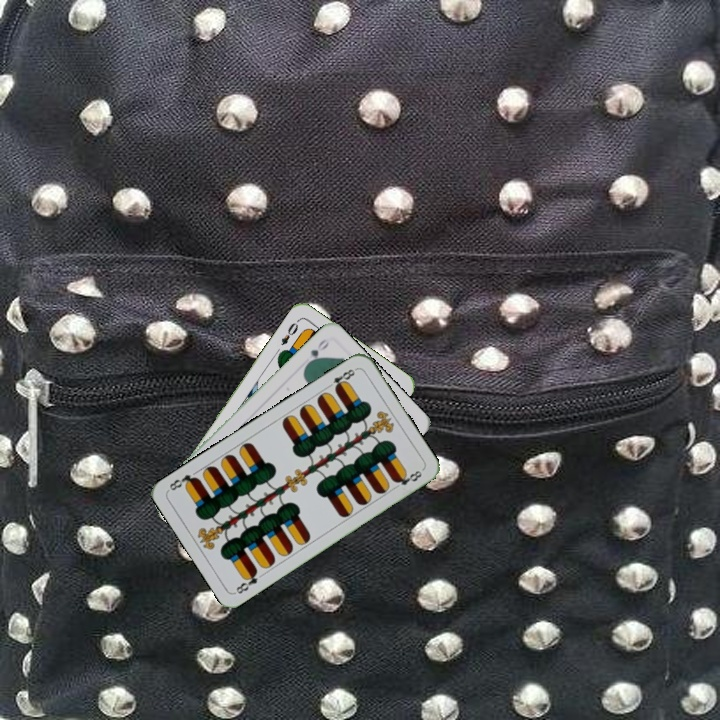E8: (323, 364, 359, 393), (231, 566, 260, 597)
EO: (277, 316, 302, 348)
GO: (302, 335, 332, 369)
